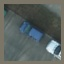car: (18, 21, 44, 43)
